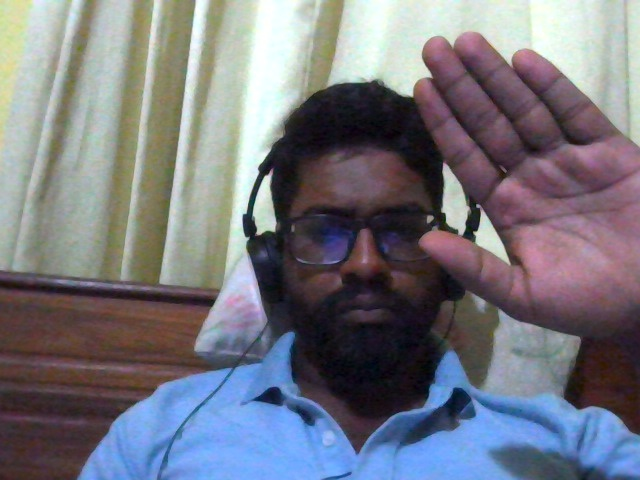Hello: (375, 11, 640, 383)
